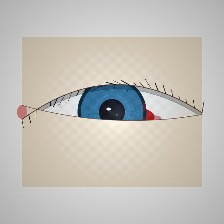hemorrhage_spot: (87, 86, 165, 148)
